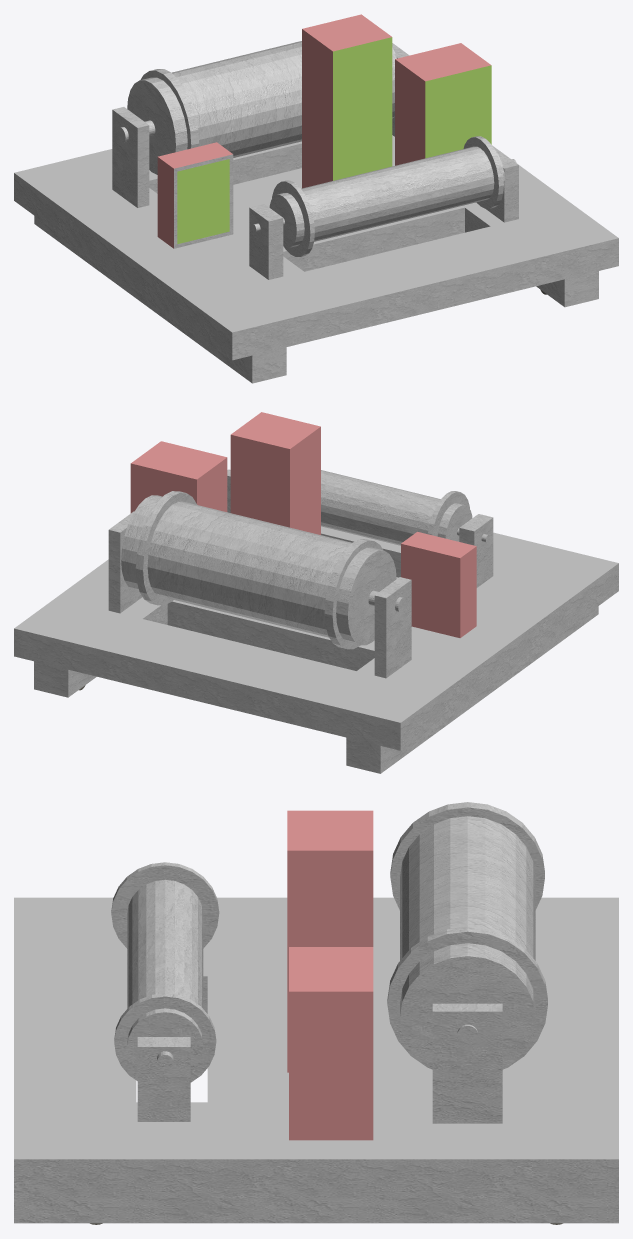
The model's file is crane.dae.
3 views of the same model, one above another, from view 1: azimuth 30°, elevation 25°; view 2: azimuth 150°, elevation 25°; view 3: azimuth 270°, elevation 25° (orthographic). The views are drawn at different scales.
Parts seen in each view (by area): view 1: mesh3-geometry_material3_IndexedFaceSet, mesh3-geometry_material0_IndexedFaceSet, mesh3-geometry_material2_IndexedFaceSet, mesh1-geometry_material0_IndexedFaceSet, mesh2-geometry_material0_IndexedFaceSet, mesh3-geometry_material1_IndexedFaceSet, mesh5-geometry_material0_IndexedFaceSet; view 2: mesh3-geometry_material3_IndexedFaceSet, mesh3-geometry_material0_IndexedFaceSet, mesh1-geometry_material0_IndexedFaceSet, mesh3-geometry_material1_IndexedFaceSet, mesh2-geometry_material0_IndexedFaceSet, mesh5-geometry_material0_IndexedFaceSet, mesh4-geometry_material0_IndexedFaceSet; view 3: mesh3-geometry_material3_IndexedFaceSet, mesh3-geometry_material0_IndexedFaceSet, mesh1-geometry_material0_IndexedFaceSet, mesh3-geometry_material1_IndexedFaceSet, mesh2-geometry_material0_IndexedFaceSet, mesh4-geometry_material0_IndexedFaceSet.
Boxes of the visible parts, <box> form: mesh3-geometry_material3_IndexedFaceSet: <box>14,135,618,332</box>; mesh3-geometry_material0_IndexedFaceSet: <box>14,143,618,383</box>; mesh3-geometry_material2_IndexedFaceSet: <box>177,37,491,244</box>; mesh1-geometry_material0_IndexedFaceSet: <box>118,41,396,174</box>; mesh2-geometry_material0_IndexedFaceSet: <box>252,136,516,256</box>; mesh3-geometry_material1_IndexedFaceSet: <box>157,14,490,248</box>; mesh5-geometry_material0_IndexedFaceSet: <box>112,107,149,207</box>; mesh3-geometry_material3_IndexedFaceSet: <box>14,526,618,722</box>; mesh3-geometry_material0_IndexedFaceSet: <box>14,470,618,773</box>; mesh1-geometry_material0_IndexedFaceSet: <box>121,491,405,649</box>; mesh3-geometry_material1_IndexedFaceSet: <box>130,412,476,637</box>; mesh2-geometry_material0_IndexedFaceSet: <box>227,469,489,545</box>; mesh5-geometry_material0_IndexedFaceSet: <box>374,577,411,678</box>; mesh4-geometry_material0_IndexedFaceSet: <box>108,511,142,613</box>; mesh3-geometry_material3_IndexedFaceSet: <box>14,897,618,1159</box>; mesh3-geometry_material0_IndexedFaceSet: <box>14,976,618,1223</box>; mesh1-geometry_material0_IndexedFaceSet: <box>387,802,547,1069</box>; mesh3-geometry_material1_IndexedFaceSet: <box>287,810,373,1140</box>; mesh2-geometry_material0_IndexedFaceSet: <box>111,862,219,1082</box>; mesh4-geometry_material0_IndexedFaceSet: <box>432,1003,502,1123</box>.
Size of the model in its own units: 3.54 by 1.98 by 3.45.
